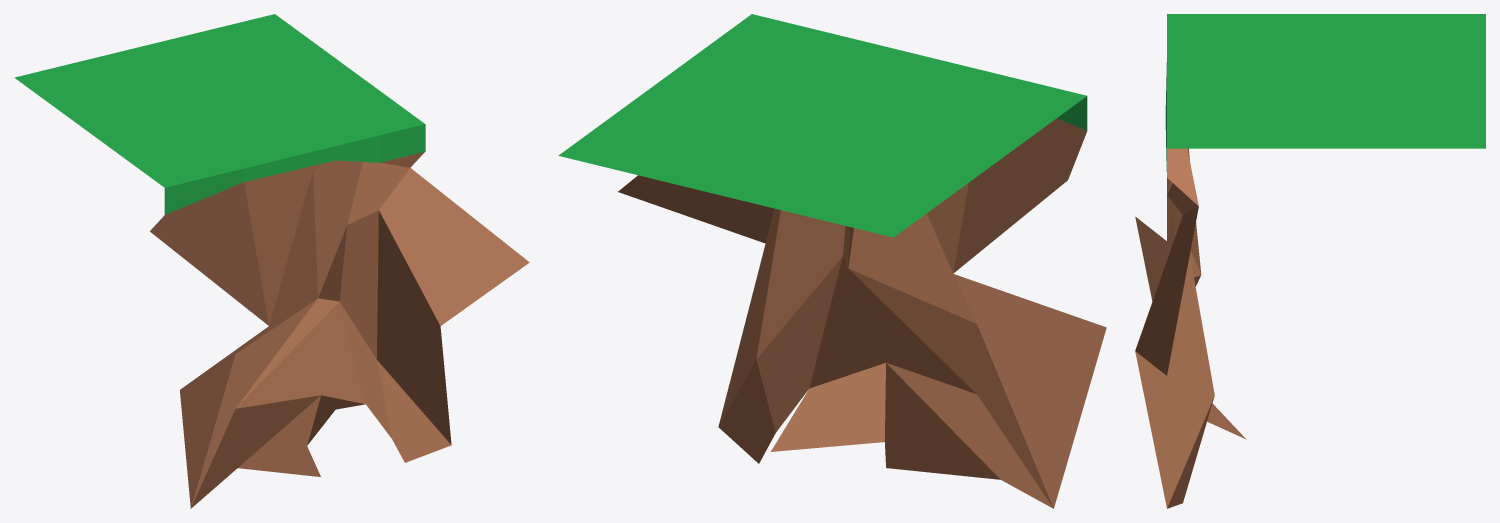
File: Edge Top Interior E.fbx
3 views of the same model, side by side, from view 1: azimuth 30°, elevation 25°; view 2: azimuth 150°, elevation 25°; view 3: azimuth 270°, elevation 25° (orthographic). The views are drawn at different scales.
Parts seen in each view (by area): view 1: Edge Top Interior E; view 2: Edge Top Interior E; view 3: Edge Top Interior E.
Part boxes in pixels (x1=…): Edge Top Interior E: x1=14, y1=14, x2=529, y2=508; Edge Top Interior E: x1=558, y1=14, x2=1106, y2=508; Edge Top Interior E: x1=1135, y1=14, x2=1485, y2=508.
Size of the model in its own units: 70 by 62.5 by 55.
